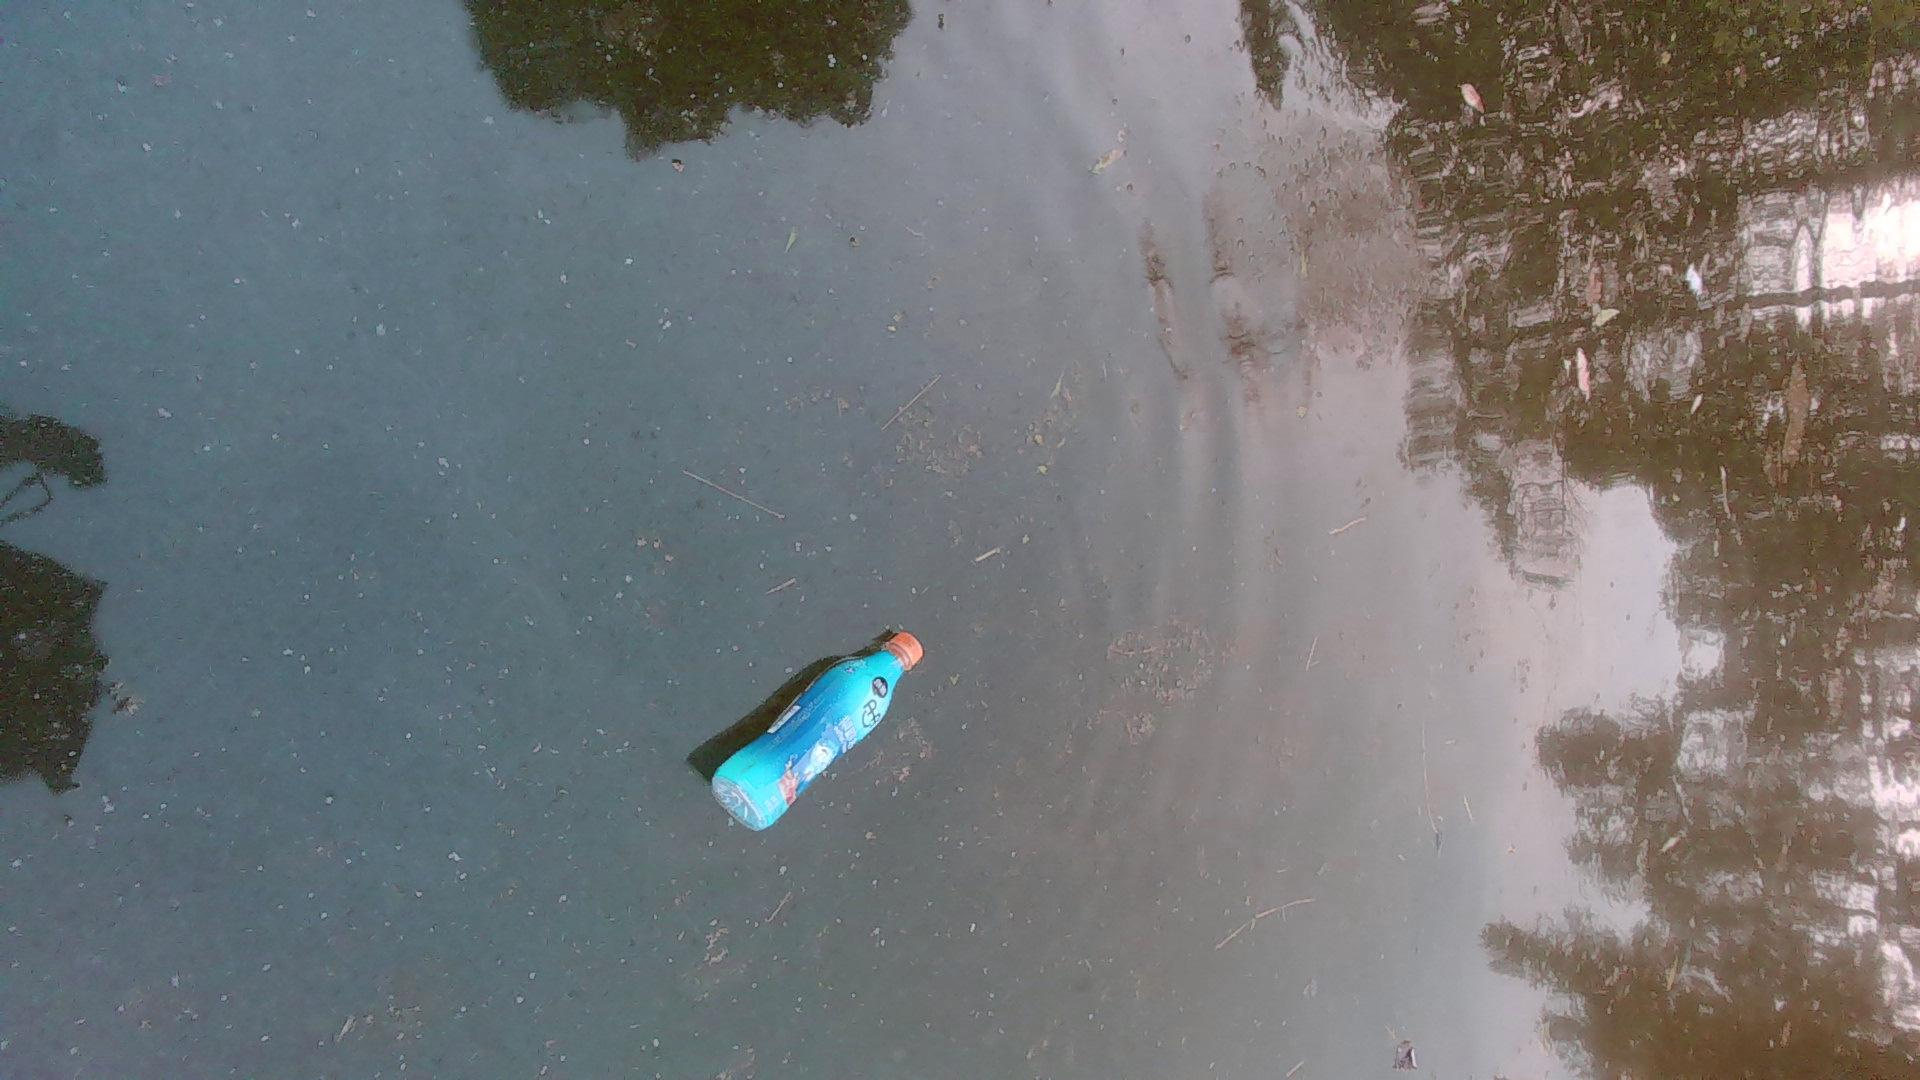Plastic: (698, 632, 928, 837)
